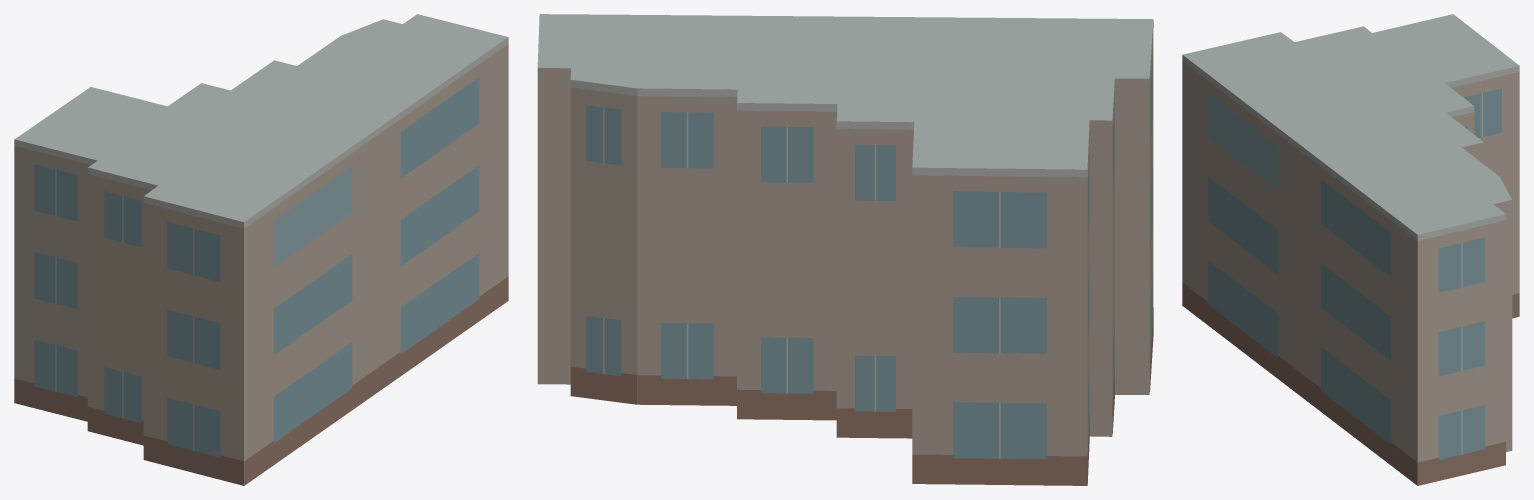
Rendered from survey-upis-33005623.glb.
The picture shows the model from 3 angles, left to right: view 1: azimuth 30°, elevation 25°; view 2: azimuth 150°, elevation 25°; view 3: azimuth 270°, elevation 25°; orthographic projection. The views are drawn at different scales.
Visible parts, largest first — view 1: survey-upis-33005623.tmp; view 2: survey-upis-33005623.tmp; view 3: survey-upis-33005623.tmp.
Boxes of the visible parts, <box> form: survey-upis-33005623.tmp: <box>14,14,508,485</box>; survey-upis-33005623.tmp: <box>537,14,1153,485</box>; survey-upis-33005623.tmp: <box>1182,14,1519,485</box>.
Bounding box in the file's own units: 18.94 × 10.03 × 12.22.
